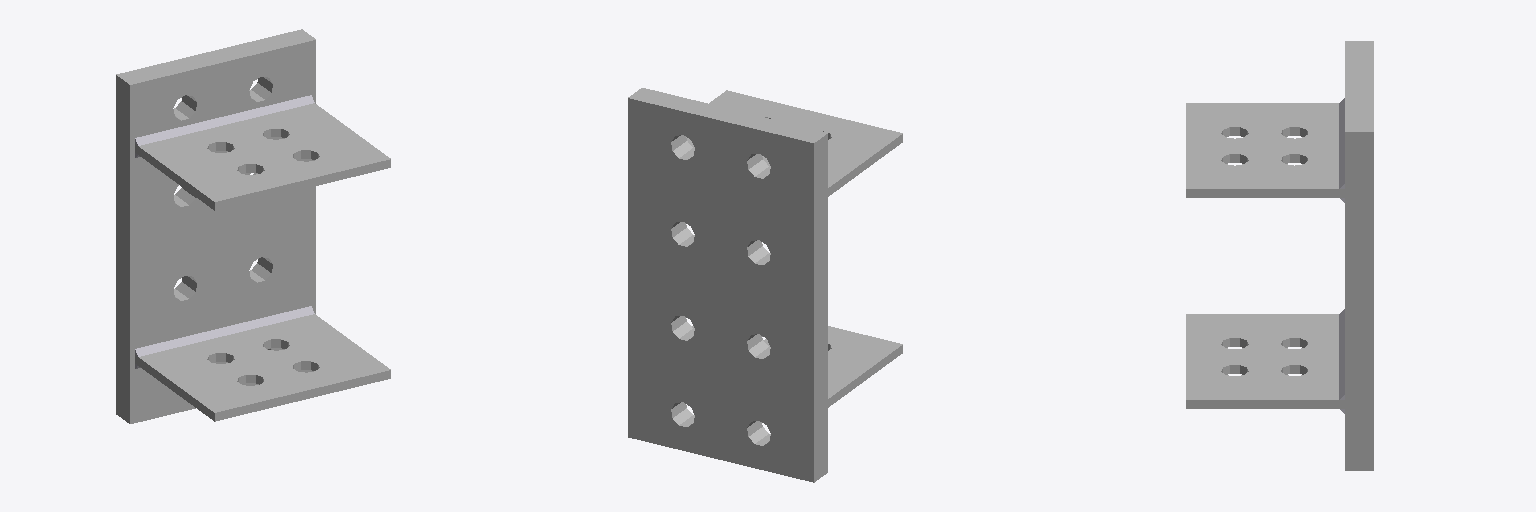
The model's file is base_plate.obj.
3 renders of one model, left to right at view 1: azimuth 30°, elevation 25°; view 2: azimuth 150°, elevation 25°; view 3: azimuth 270°, elevation 25°, orthographic.
Parts seen in each view (by area): view 1: Base_plate; view 2: Base_plate; view 3: Base_plate.
Boxes of the visible parts, <box> form: Base_plate: <box>116,29,390,423</box>; Base_plate: <box>628,88,902,482</box>; Base_plate: <box>1186,41,1373,470</box>.
Size of the model in its own units: 0.27 by 0.47 by 0.236.